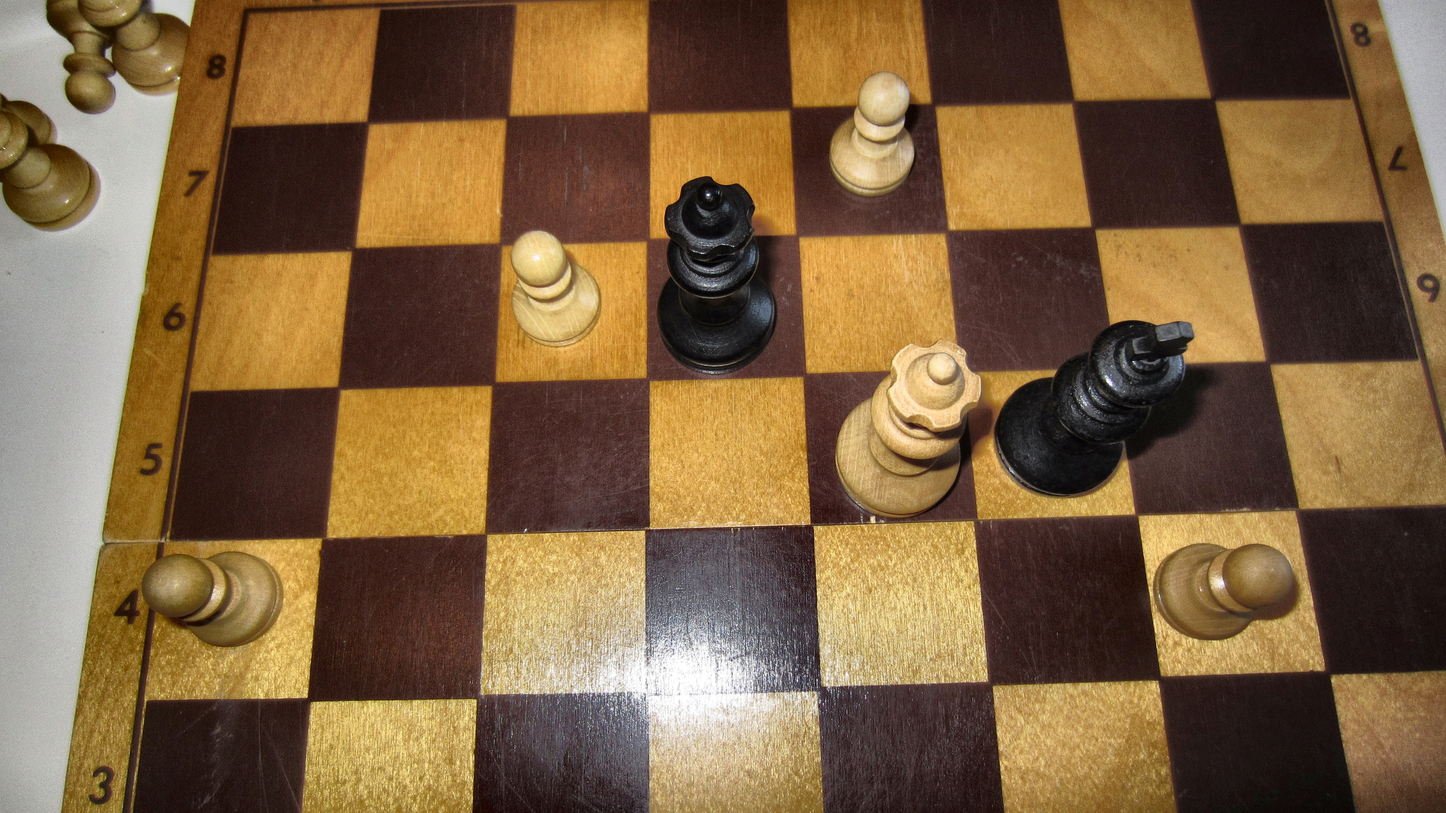black-king: (993, 314, 1197, 498)
black-queen: (657, 174, 779, 375)
white-pawn: (1151, 540, 1295, 640), (140, 551, 284, 648), (509, 229, 604, 348), (827, 70, 916, 195)
white-queen: (830, 339, 985, 519)
